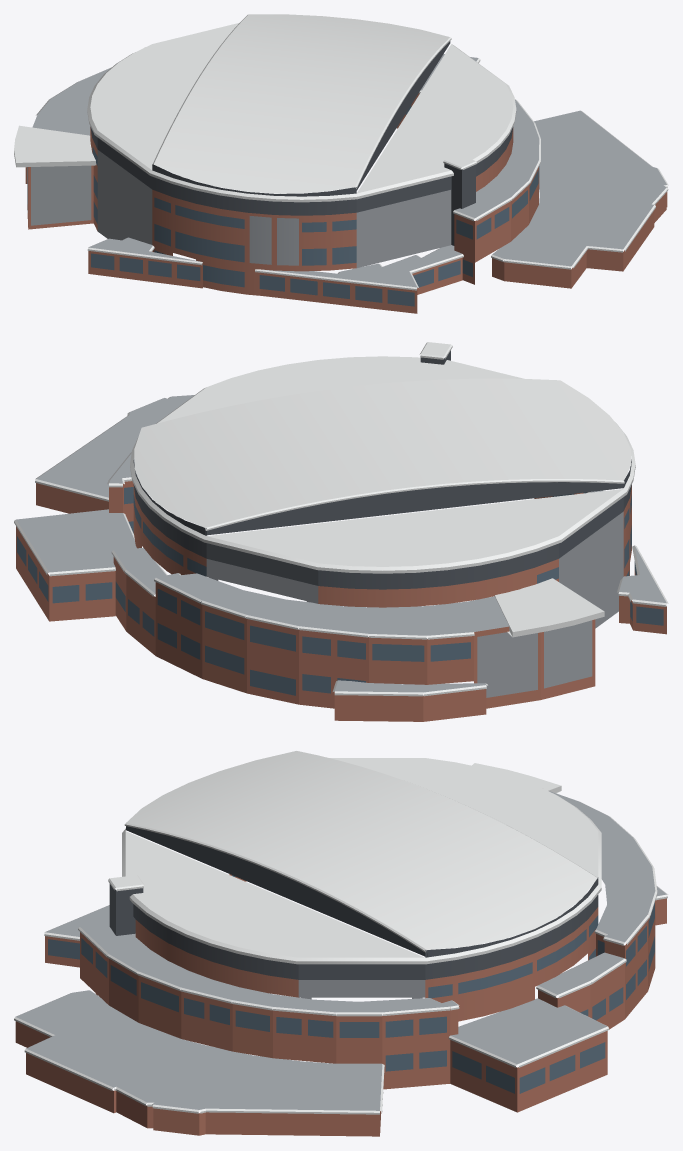
The picture shows the model from 3 angles, top to bottom: view 1: azimuth 30°, elevation 25°; view 2: azimuth 150°, elevation 25°; view 3: azimuth 270°, elevation 25°; orthographic projection. The views are drawn at different scales.
Parts seen in each view (by area): view 1: spectrum-center; view 2: spectrum-center; view 3: spectrum-center.
Part boxes in pixels (bbox=[...]): spectrum-center: bbox=[14, 14, 668, 313]; spectrum-center: bbox=[14, 342, 668, 721]; spectrum-center: bbox=[14, 751, 668, 1136].
Size of the model in its own units: 198 by 44 by 185.
